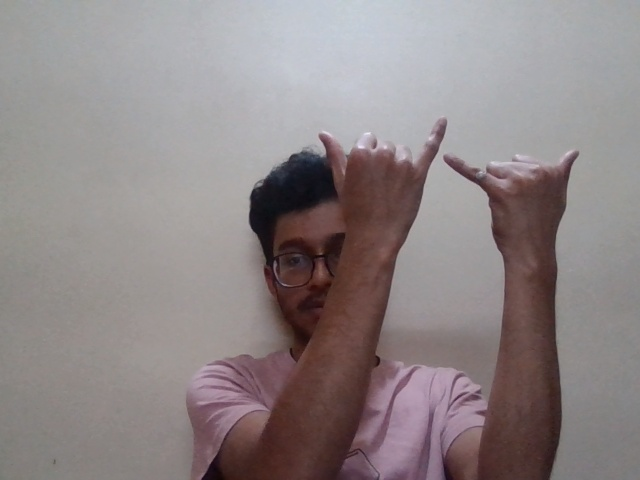today: (320, 109, 570, 288)
